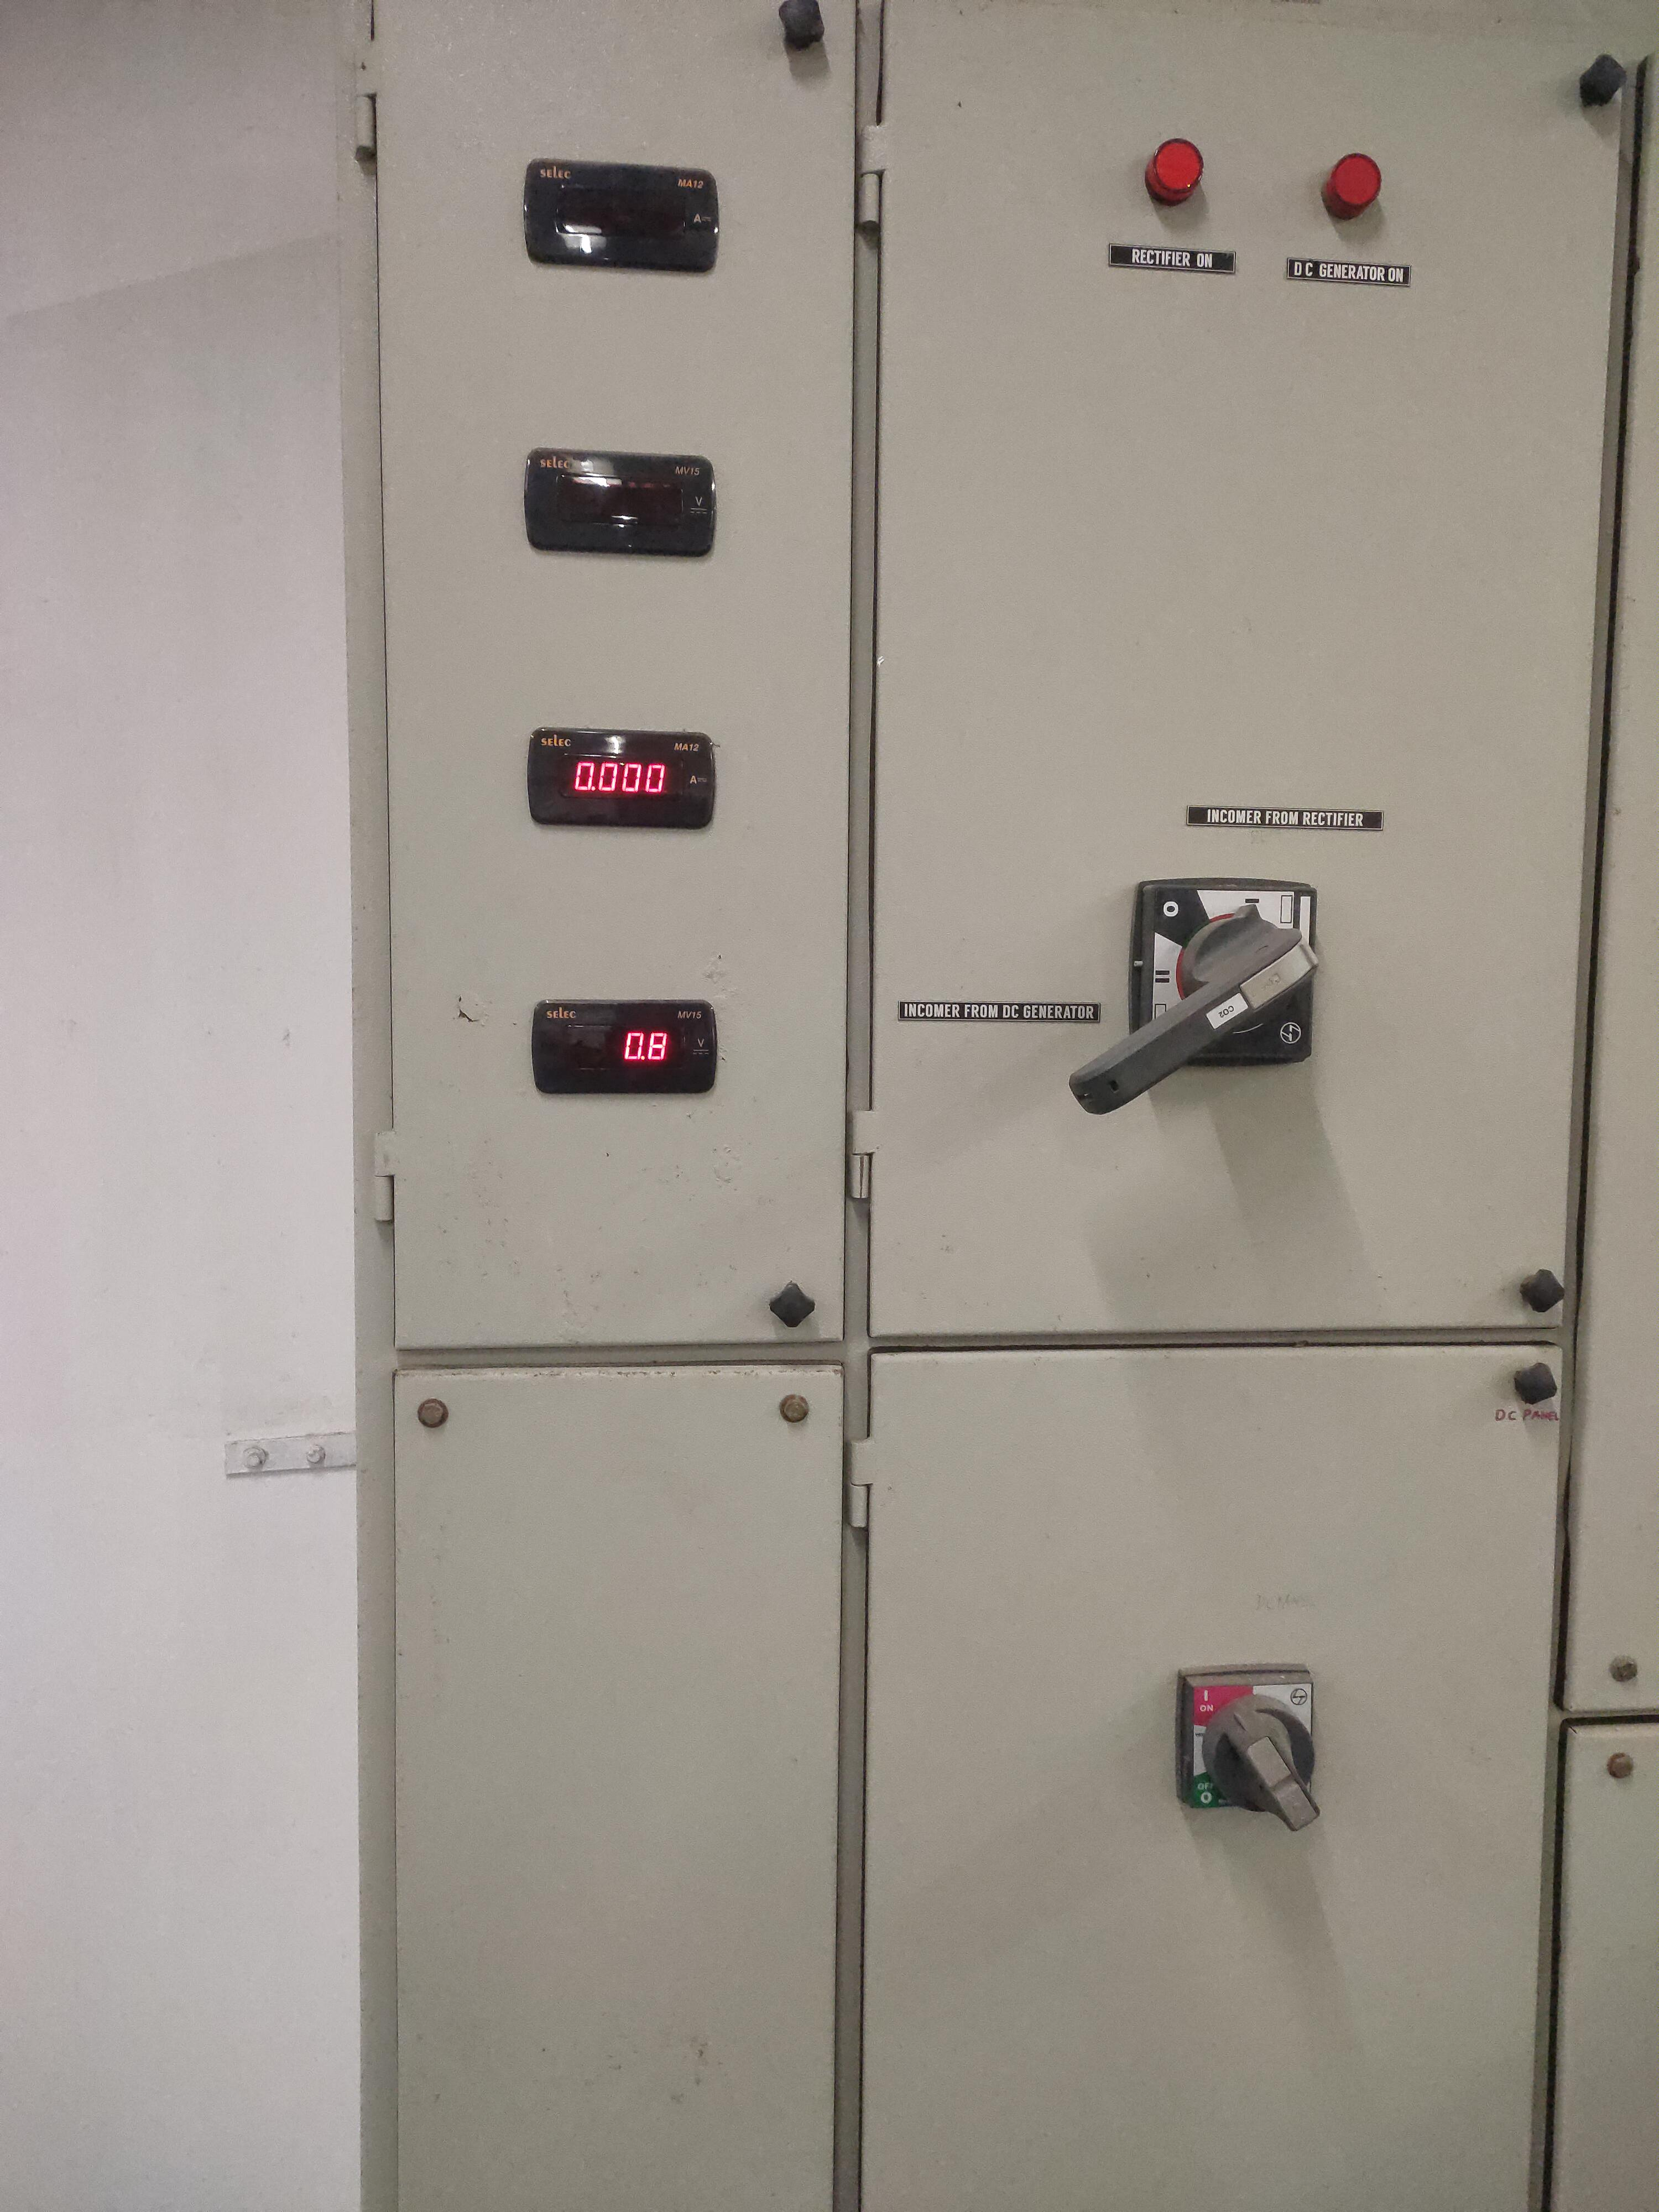Knob 1: (1037, 846, 1371, 1158)
Knob 2: (1161, 1644, 1358, 1869)
Light Indications: (1080, 106, 1473, 331)
